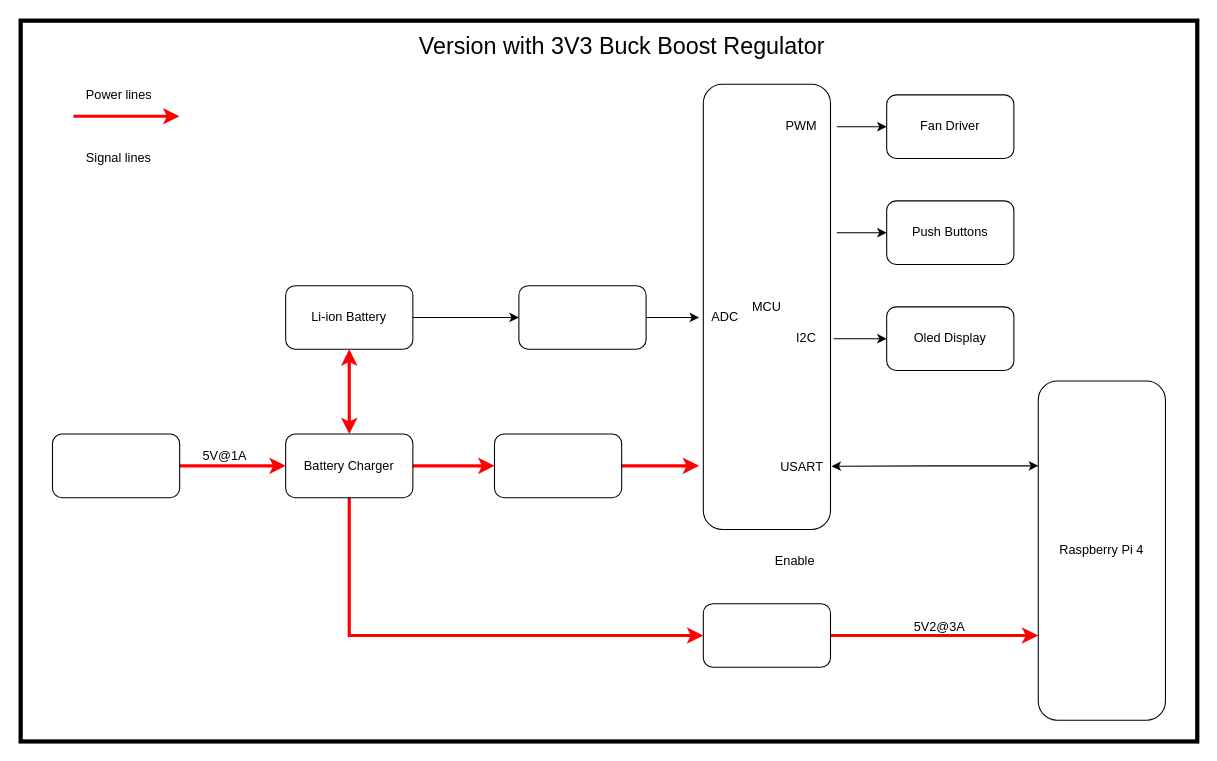
The diagram is 1217 pixels wide and 761 high, and some of its shapes have lost their labels. Each missing label, with the centre of its shape:
"3V3 Buck Boost Regulator" belongs at pixel 557 465.
"5V2 Boost Regulator" belongs at pixel 766 635.
"Battery Voltage Monitor" belongs at pixel 582 317.
"USB Power Source" belongs at pixel 115 465.
